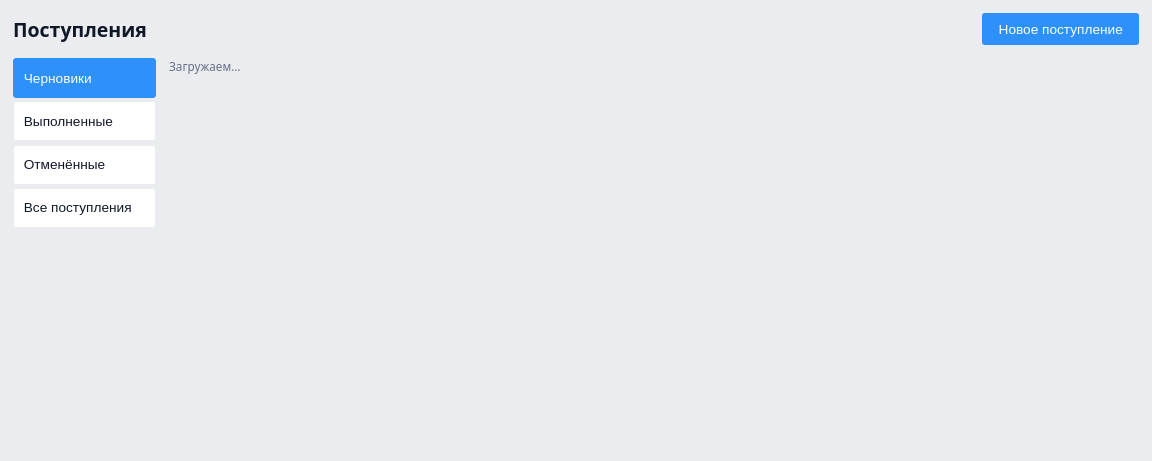
Test case: поступления › «Отменить» на новой форме не заводит документа
Click the button "Новое поступление".
click(1061, 29)  # box [982, 13, 1139, 45]
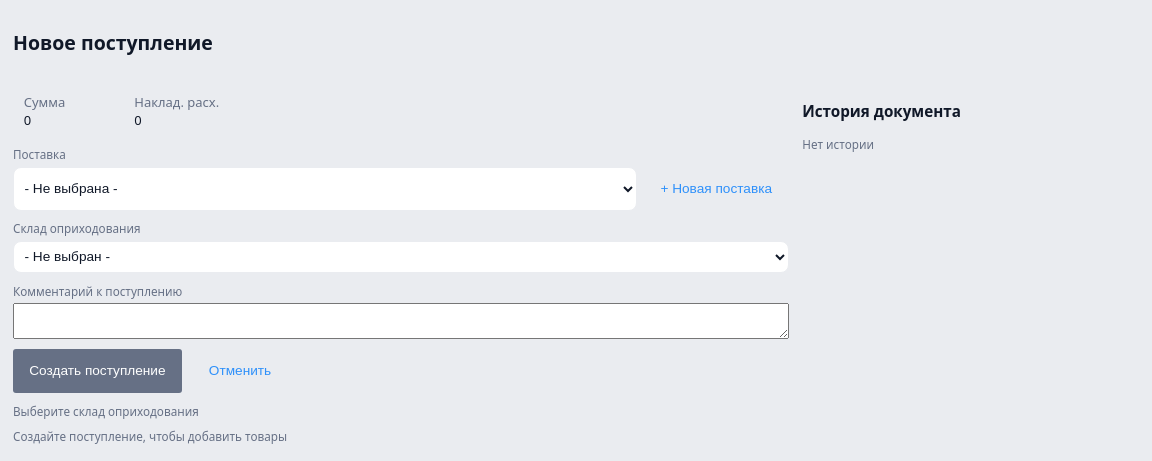
Now the text "Создайте поступление, чтобы добавить товары" is shown, box [13, 428, 287, 444]
Now the text "Нет истории" is shown, box [802, 136, 874, 152]
Click the button "Отменить".
click(240, 371)  # box [192, 349, 288, 393]
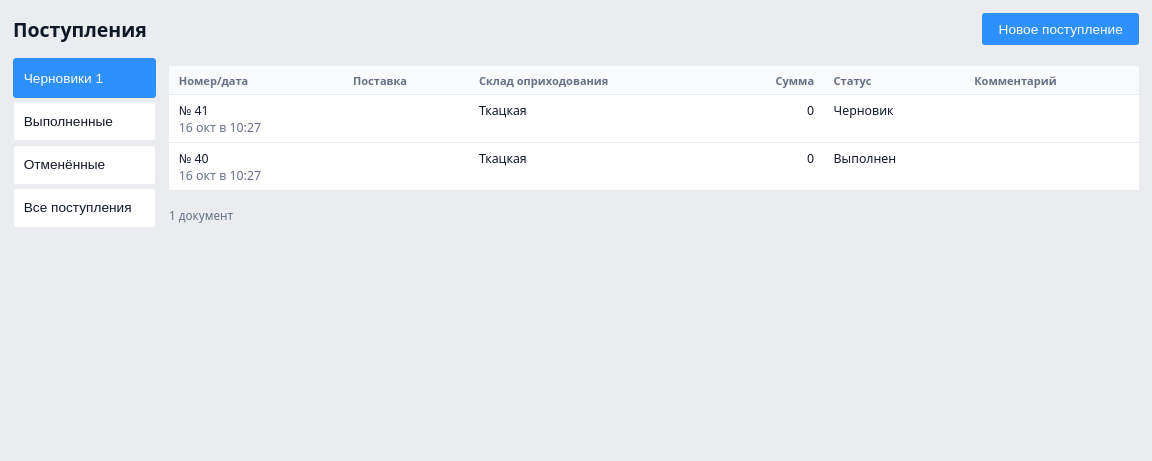
Now the text "№ 41" is shown, box [169, 94, 343, 142]
